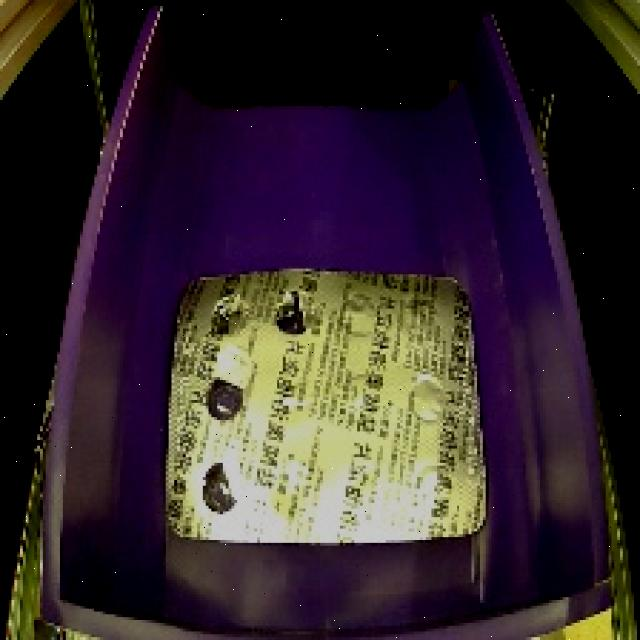med_plate: (149, 248, 506, 556)
